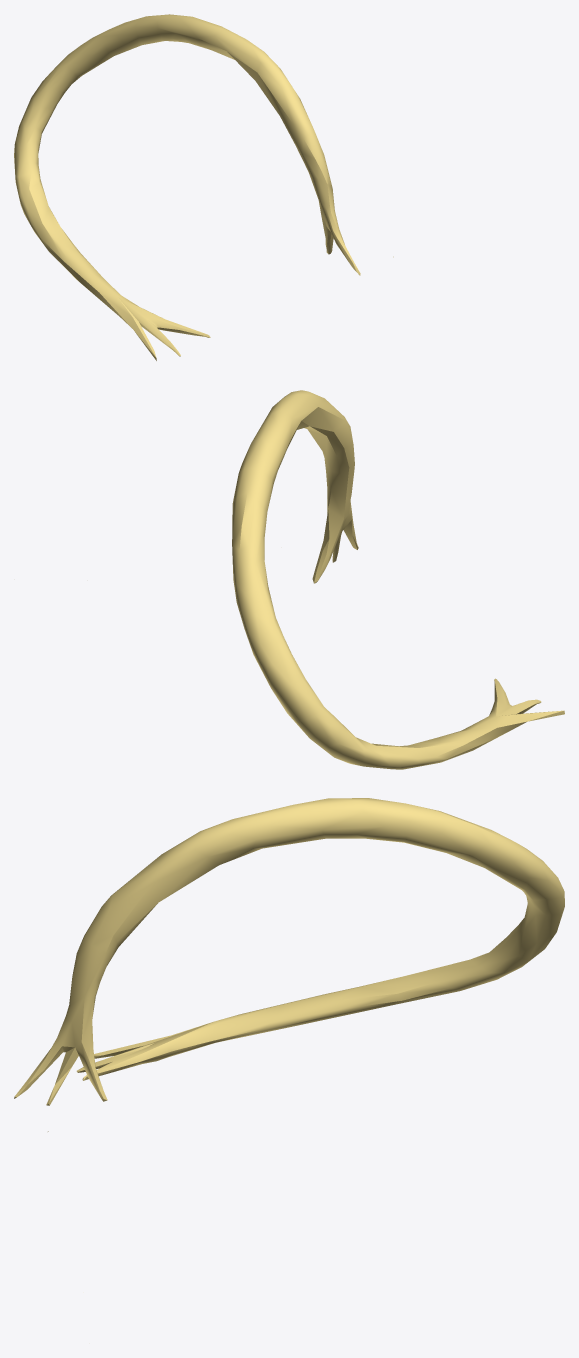
The model's file is fma72939_fj1825.glb.
The picture shows the model from 3 angles, top to bottom: view 1: azimuth 30°, elevation 25°; view 2: azimuth 150°, elevation 25°; view 3: azimuth 270°, elevation 25°; orthographic projection. The views are drawn at different scales.
Visible parts, largest first — view 1: FMA72939_FJ1825; view 2: FMA72939_FJ1825; view 3: FMA72939_FJ1825.
Boxes of the visible parts, x1,y1,x2,y2 form: FMA72939_FJ1825: [14, 14, 393, 360]; FMA72939_FJ1825: [232, 390, 564, 769]; FMA72939_FJ1825: [14, 798, 564, 1131].
Bounding box in the file's own units: 0.0551 × 0.0308 × 0.0436.
